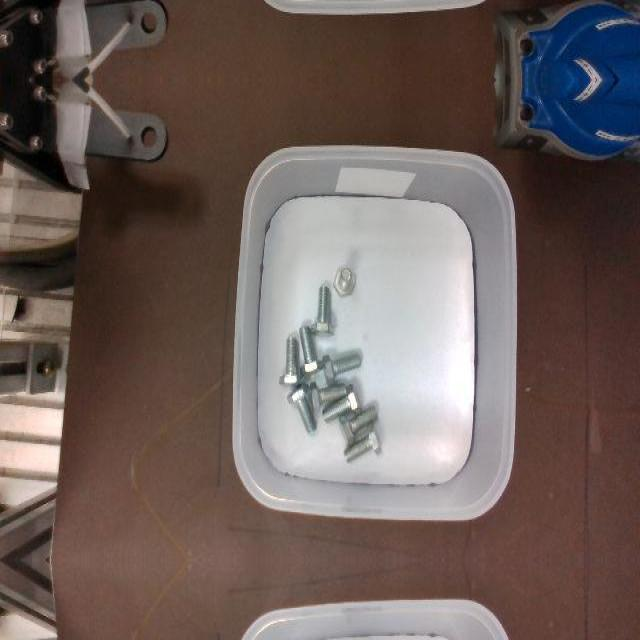screw: (339, 404, 378, 446), (343, 422, 382, 464), (286, 382, 316, 434), (322, 383, 361, 423), (322, 353, 361, 387), (299, 325, 324, 375), (279, 337, 304, 387), (310, 287, 334, 337), (309, 382, 346, 414), (333, 267, 356, 297)
